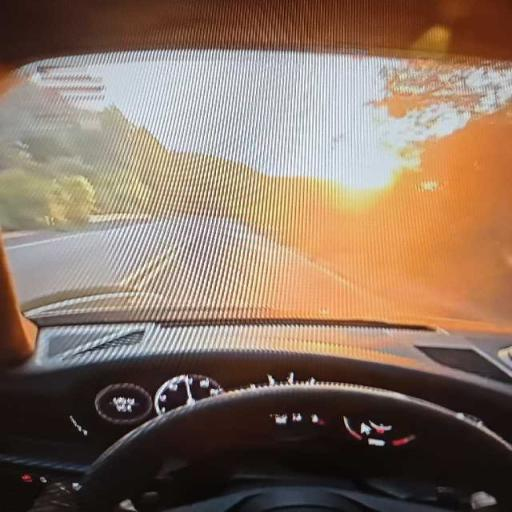car: (0, 0, 511, 511)
lane: (8, 217, 379, 316), (7, 223, 170, 304)
